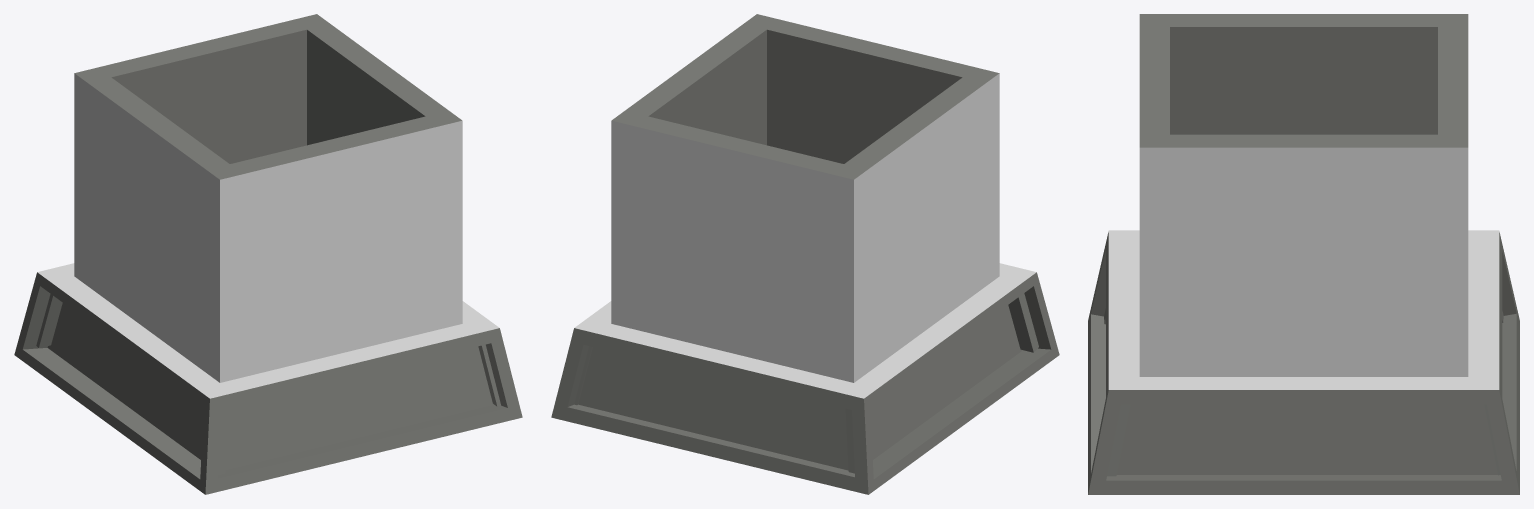
Rendered from Container2.fbx.
3 views of the same model, side by side, from view 1: azimuth 30°, elevation 25°; view 2: azimuth 150°, elevation 25°; view 3: azimuth 270°, elevation 25° (orthographic). The views are drawn at different scales.
Parts seen in each view (by area): view 1: Container2; view 2: Container2; view 3: Container2.
Boxes of the visible parts, box(x1,y1,x2,y2) form: Container2: box(14, 14, 522, 494); Container2: box(551, 14, 1059, 494); Container2: box(1088, 14, 1519, 494).
Size of the model in its own units: 51.16 by 44.59 by 53.39.
